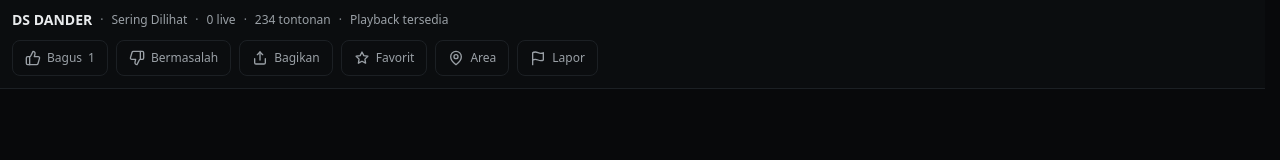
Test: CameraDetailPanel — the vote still behaves, and still says so › records the vote and shows the pressed state the server confirmed
Click the button with test id "camera-reaction-like" at (60, 58), box [12,40,108,76]
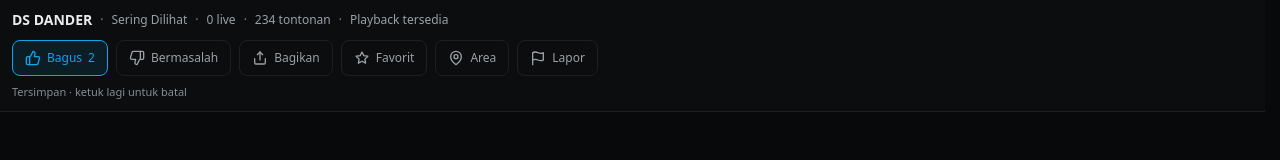
Now the button with test id "camera-reaction-like" reads "Bagus 2", box [12,40,108,76]
